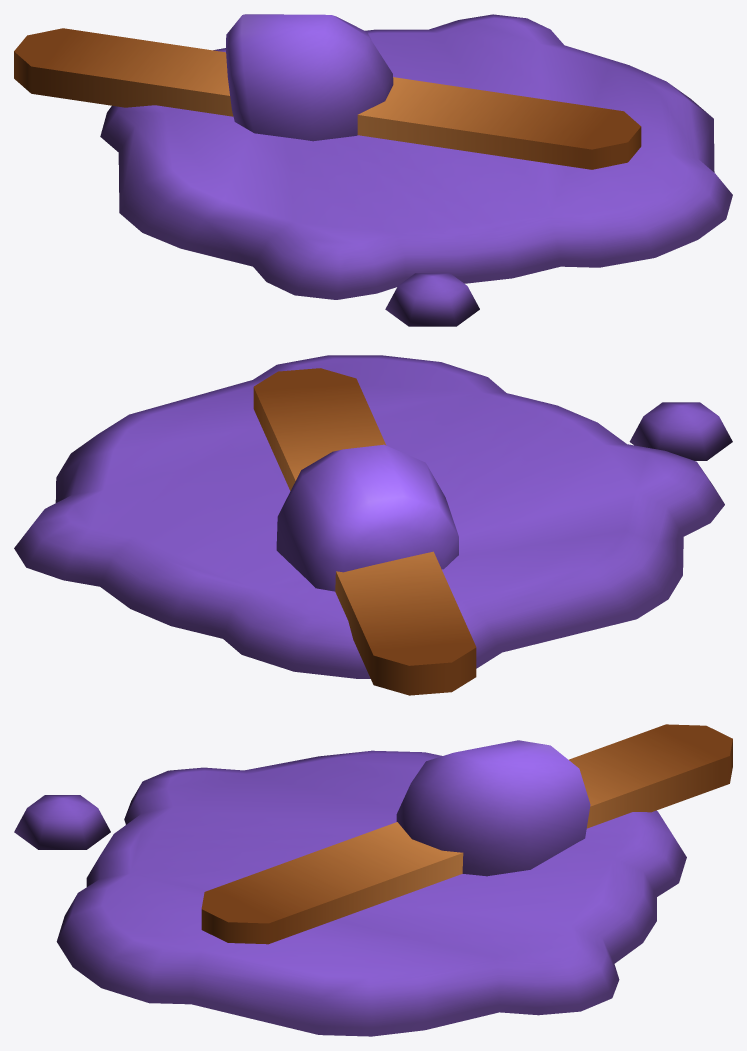
Rendered from m_SpilledPopsicle10.fbx.
The picture shows the model from 3 angles, top to bottom: view 1: azimuth 30°, elevation 25°; view 2: azimuth 150°, elevation 25°; view 3: azimuth 270°, elevation 25°; orthographic projection. The views are drawn at different scales.
Parts seen in each view (by area): view 1: m_SpilledPopsicle10; view 2: m_SpilledPopsicle10; view 3: m_SpilledPopsicle10.
Part boxes in pixels (<box>): m_SpilledPopsicle10: <box>14,14,732,326</box>; m_SpilledPopsicle10: <box>14,355,732,695</box>; m_SpilledPopsicle10: <box>14,724,732,1036</box>.
Size of the model in its own units: 12.21 by 2.52 by 13.54.
